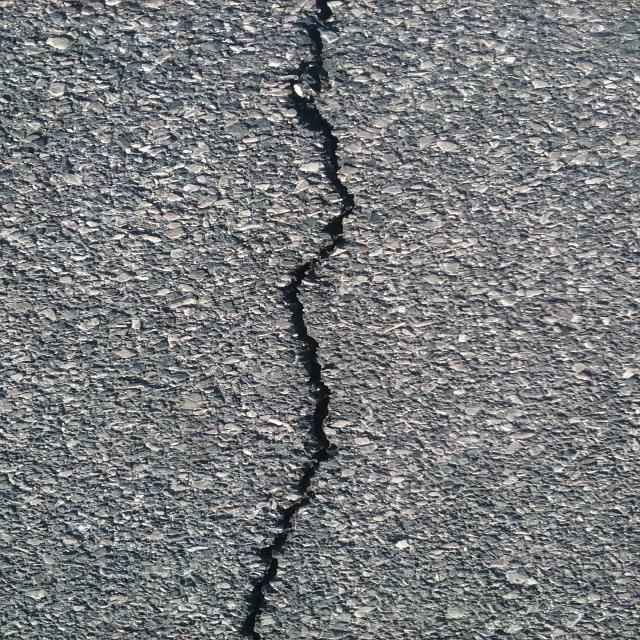Longitudial: (178, 0, 384, 640)
